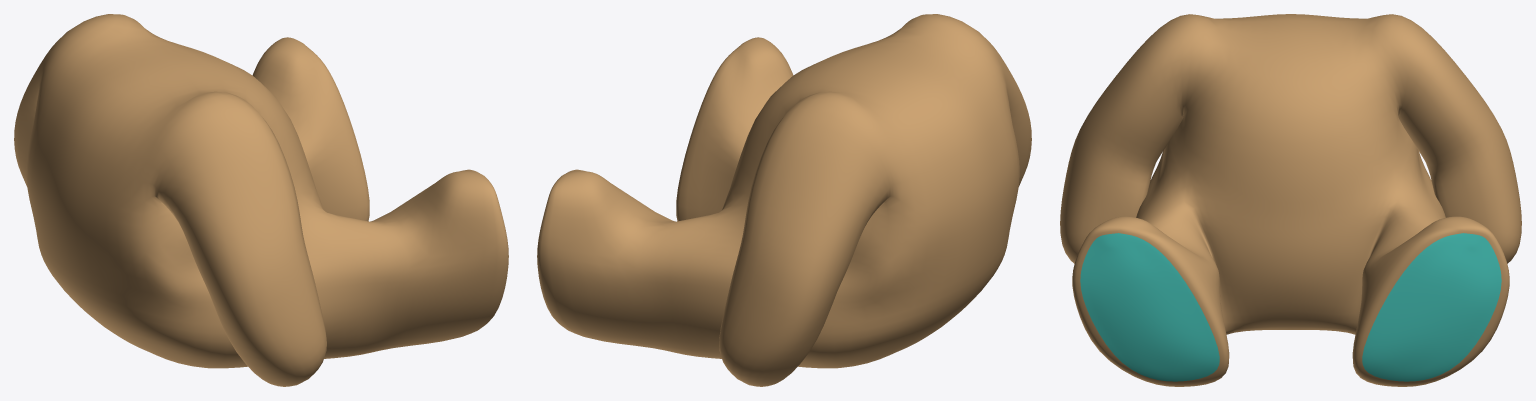
File: Low Poly Bear Inside Filler.fbx
The picture shows the model from 3 angles, left to right: view 1: azimuth 30°, elevation 25°; view 2: azimuth 150°, elevation 25°; view 3: azimuth 270°, elevation 25°; orthographic projection. The views are drawn at different scales.
Parts seen in each view (by area): view 1: Bear Final.010; view 2: Bear Final.010; view 3: Bear Final.010.
Part boxes in pixels (x1,y1,x2,y2): Bear Final.010: (14,14,508,386); Bear Final.010: (537,14,1031,386); Bear Final.010: (1060,14,1521,386).
Size of the model in its own units: 64.06 by 50.37 by 78.53.
